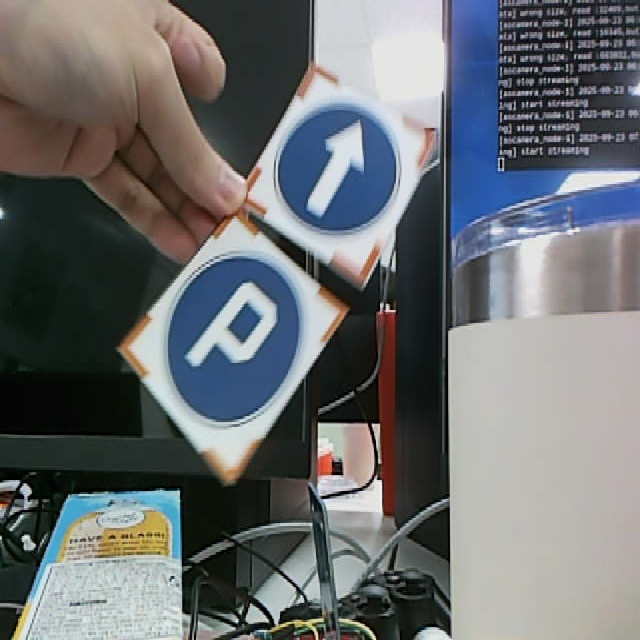parking: (116, 215, 352, 484)
straight: (238, 62, 440, 292)
